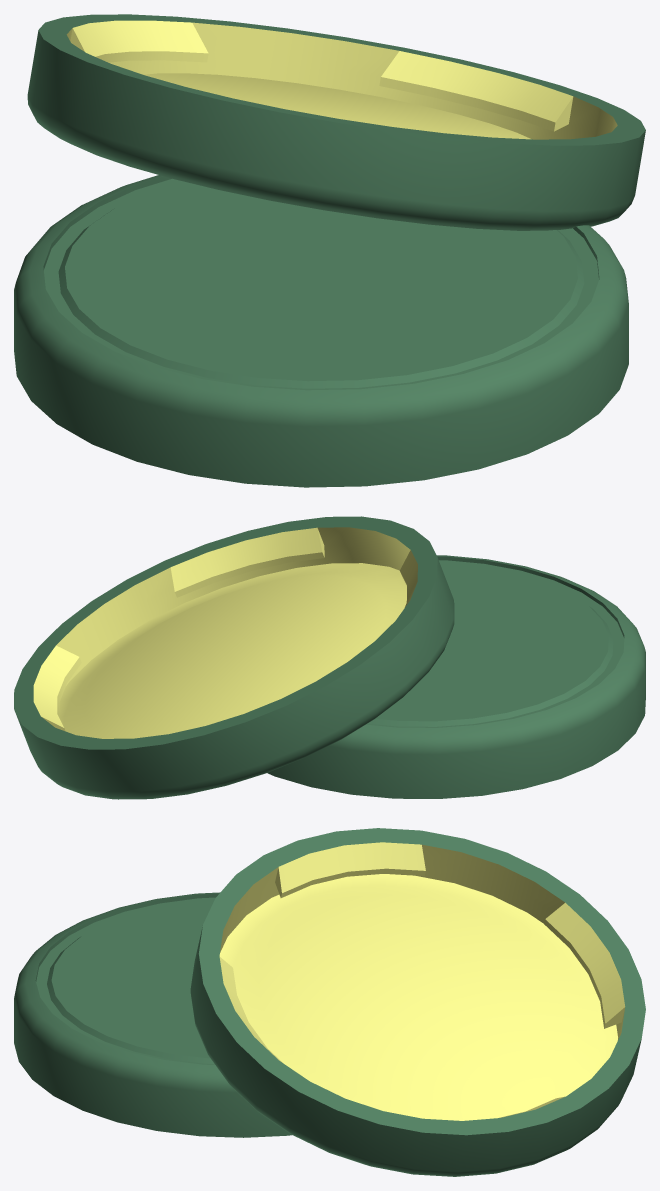
File: tapaFrasco_padre.fbx
The picture shows the model from 3 angles, top to bottom: view 1: azimuth 30°, elevation 25°; view 2: azimuth 150°, elevation 25°; view 3: azimuth 270°, elevation 25°; orthographic projection. The views are drawn at different scales.
Visible parts, largest first — view 1: tapaFrasco_padre; view 2: tapaFrasco_padre; view 3: tapaFrasco_padre.
Boxes of the visible parts, x1=… form: tapaFrasco_padre: x1=14, y1=14, x2=645, y2=487; tapaFrasco_padre: x1=14, y1=516, x2=645, y2=799; tapaFrasco_padre: x1=14, y1=828, x2=645, y2=1176.
Size of the model in its own units: 30.71 by 11.22 by 34.26.
